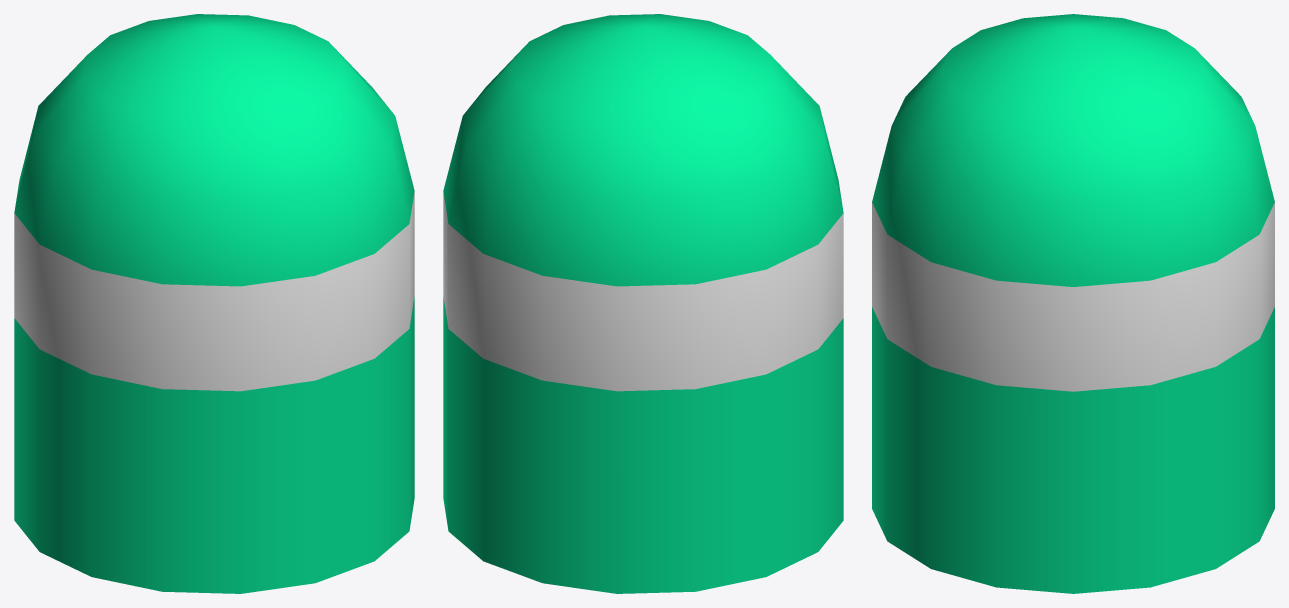
File: Arm_Sleeve_L_04_L.fbx
3 renders of one model, left to right at view 1: azimuth 30°, elevation 25°; view 2: azimuth 150°, elevation 25°; view 3: azimuth 270°, elevation 25°, orthographic.
Visible parts, largest first — view 1: Arm_Sleeve_L_04_L; view 2: Arm_Sleeve_L_04_L; view 3: Arm_Sleeve_L_04_L.
Part boxes in pixels (box(x1,y1,x2,y2)): Arm_Sleeve_L_04_L: box(14, 14, 414, 593); Arm_Sleeve_L_04_L: box(443, 14, 843, 593); Arm_Sleeve_L_04_L: box(872, 14, 1274, 593).
Size of the model in its own units: 48.18 by 63.45 by 48.18.
